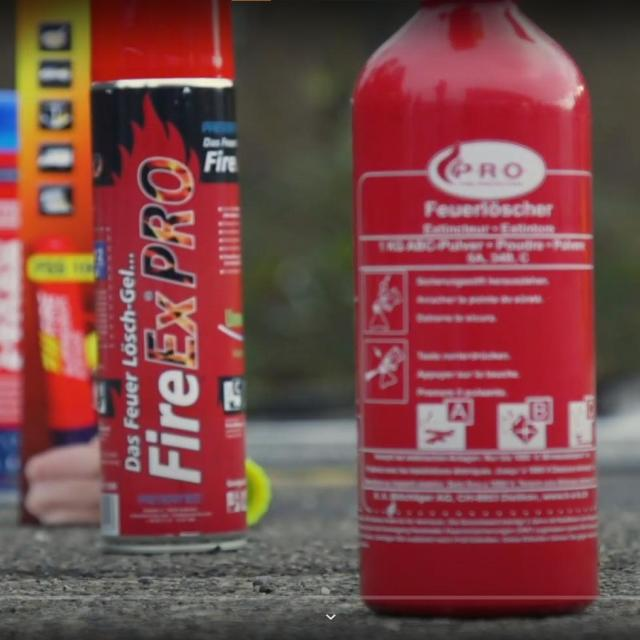fire_extinguisher: (344, 0, 600, 630), (72, 0, 249, 571)
